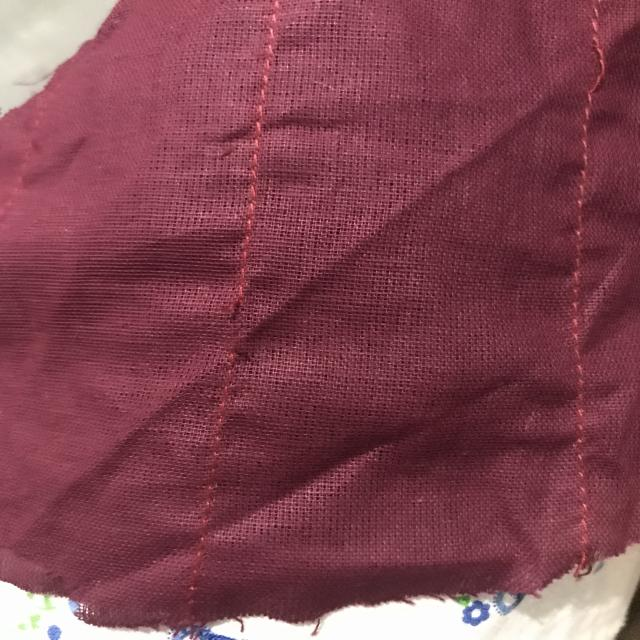skip: (568, 29, 634, 104)
